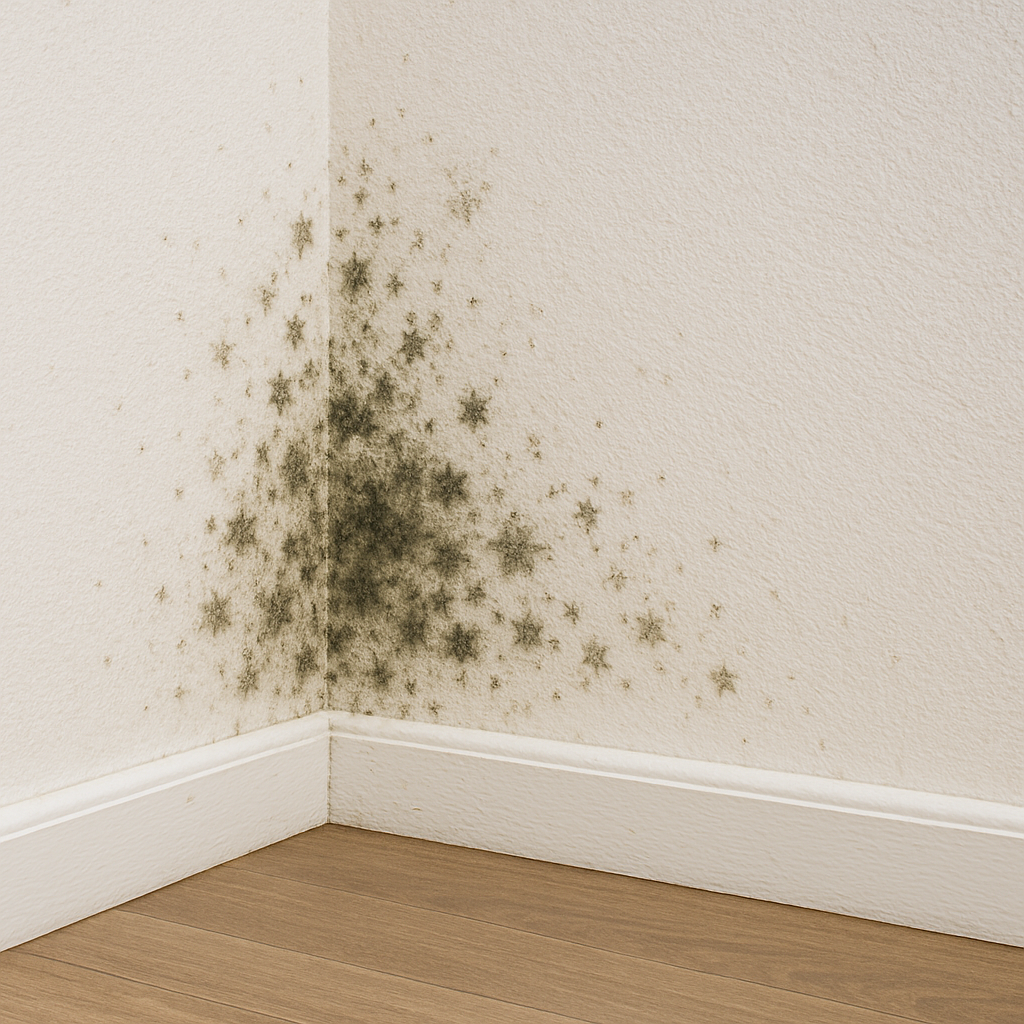schimmel: (335, 392, 432, 693)
